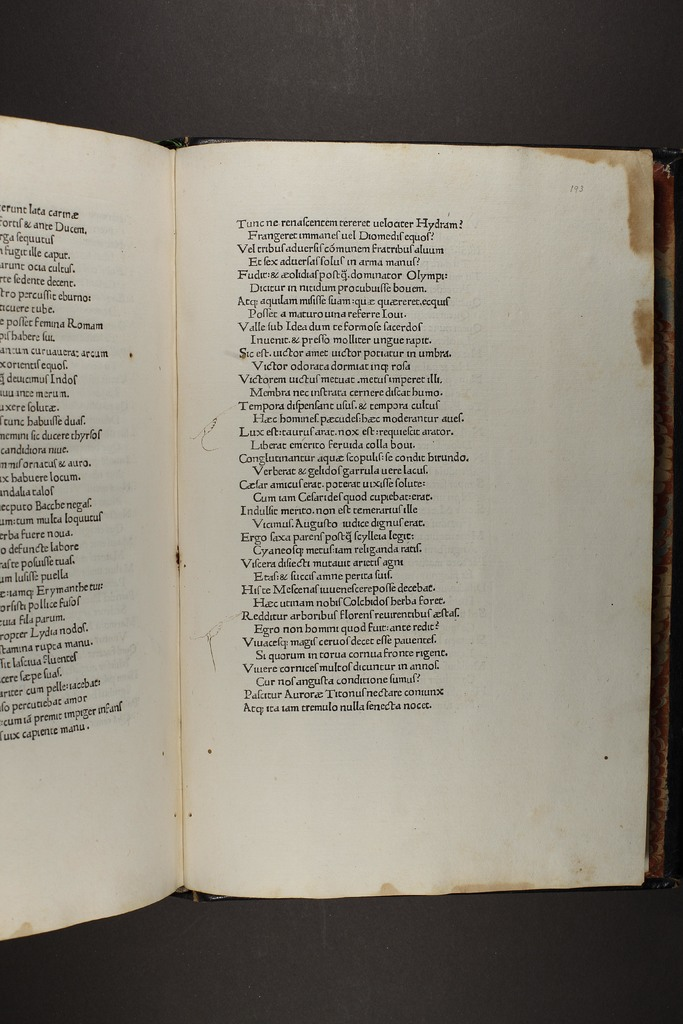Book: (0, 147, 675, 948)
